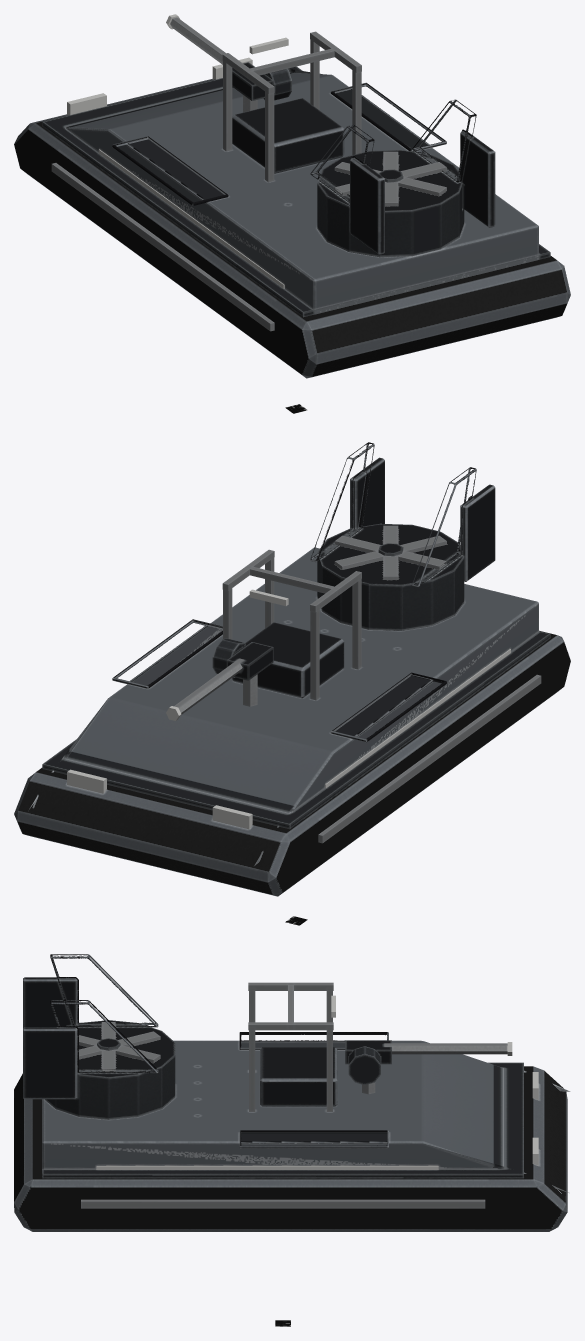
File: chs_gnat.fbx
3 views of the same model, one above another, from view 1: azimuth 30°, elevation 25°; view 2: azimuth 150°, elevation 25°; view 3: azimuth 270°, elevation 25° (orthographic). The views are drawn at different scales.
Visible parts, largest first — view 1: base_bar, turret_bar, fan1_bar, base_glow_running_bar, base_glow_head_bar; view 2: base_bar, turret_bar, fan1_bar, base_glow_head_bar, base_glow_running_bar; view 3: base_bar, turret_bar, fan1_bar, base_glow_running_bar.
Part boxes in pixels (x1,y1,x2,y2): base_bar: (14, 31, 570, 378); turret_bar: (170, 17, 291, 112); fan1_bar: (334, 151, 446, 206); base_glow_running_bar: (98, 37, 288, 288); base_glow_head_bar: (67, 57, 252, 114); base_bar: (14, 442, 570, 896); turret_bar: (174, 638, 273, 714); fan1_bar: (334, 525, 446, 579); base_glow_head_bar: (67, 769, 252, 829); base_glow_running_bar: (249, 589, 510, 788); base_bar: (14, 954, 570, 1231); turret_bar: (345, 1040, 507, 1094); fan1_bar: (78, 1022, 160, 1072); base_glow_running_bar: (96, 995, 438, 1169).
Size of the model in its own units: 372 by 490 by 717.
2 materials, 2 textured.
